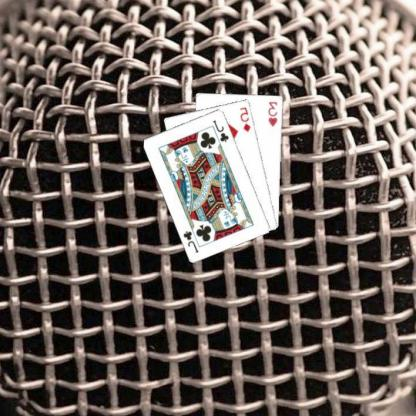3H: (268, 98, 280, 127)
5D: (239, 104, 254, 133)
JC: (212, 117, 232, 143), (182, 228, 202, 254)
